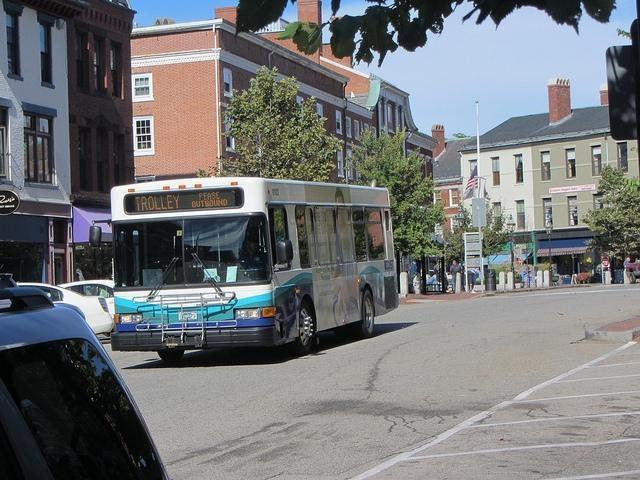bus: (111, 176, 402, 364)
car: (0, 288, 169, 480), (22, 283, 118, 338), (625, 258, 640, 284)
